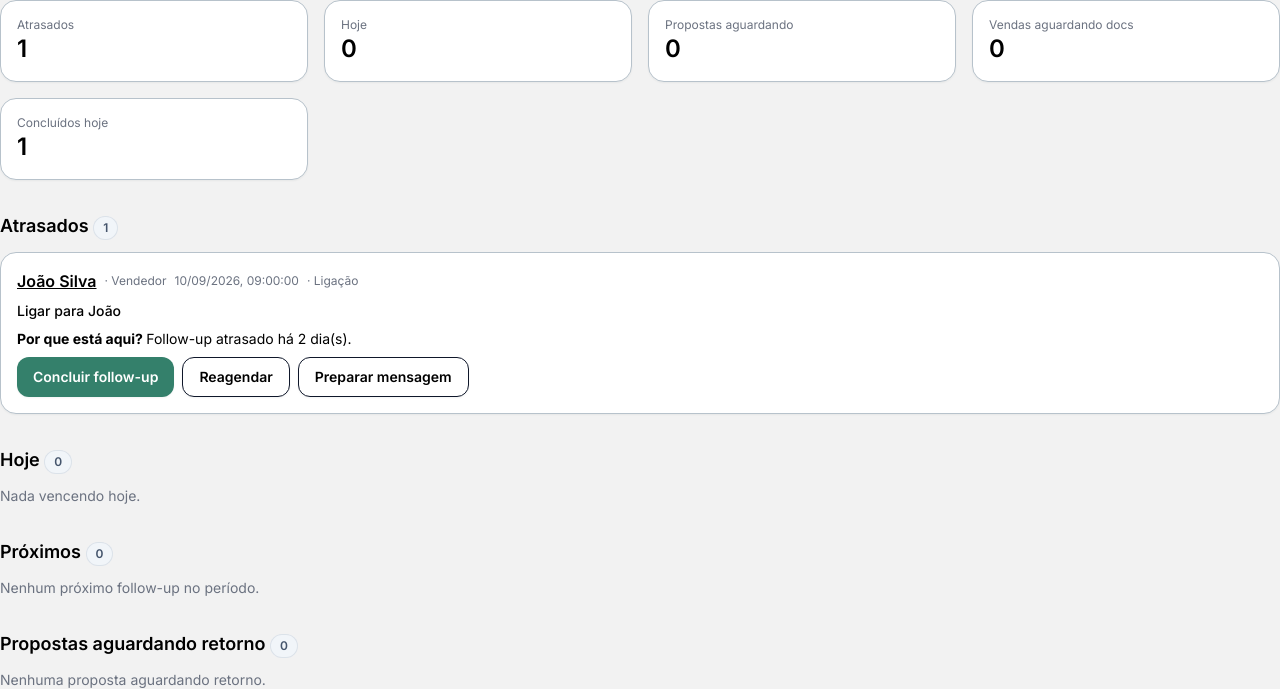
Test case: agenda comercial › conclui follow-up e oferece próxima ação sem executar sozinha
Click the button "Concluir follow-up": (96, 377) top-left (17, 357), bottom-right (174, 397)
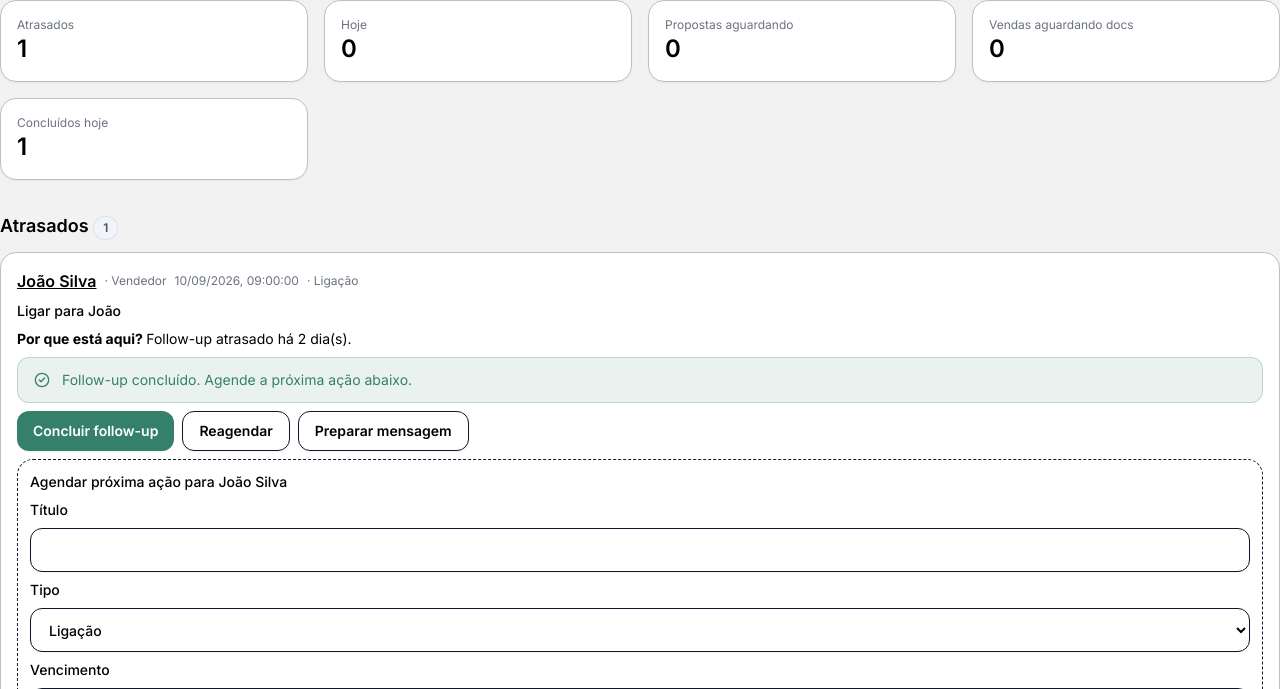
Now the text "Follow-up concluído. Agende a próxima ação abaixo." is shown, box top-left (62, 370), bottom-right (412, 390)
Now the text "Agendar próxima ação para João Silva" is shown, box top-left (30, 473), bottom-right (287, 490)
